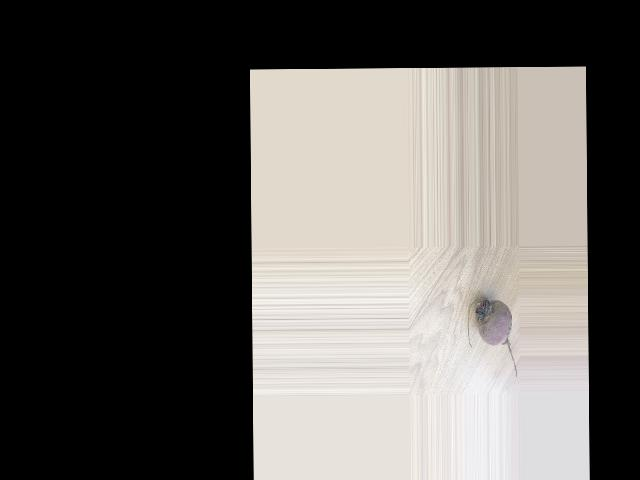beet: (467, 297, 517, 377)
